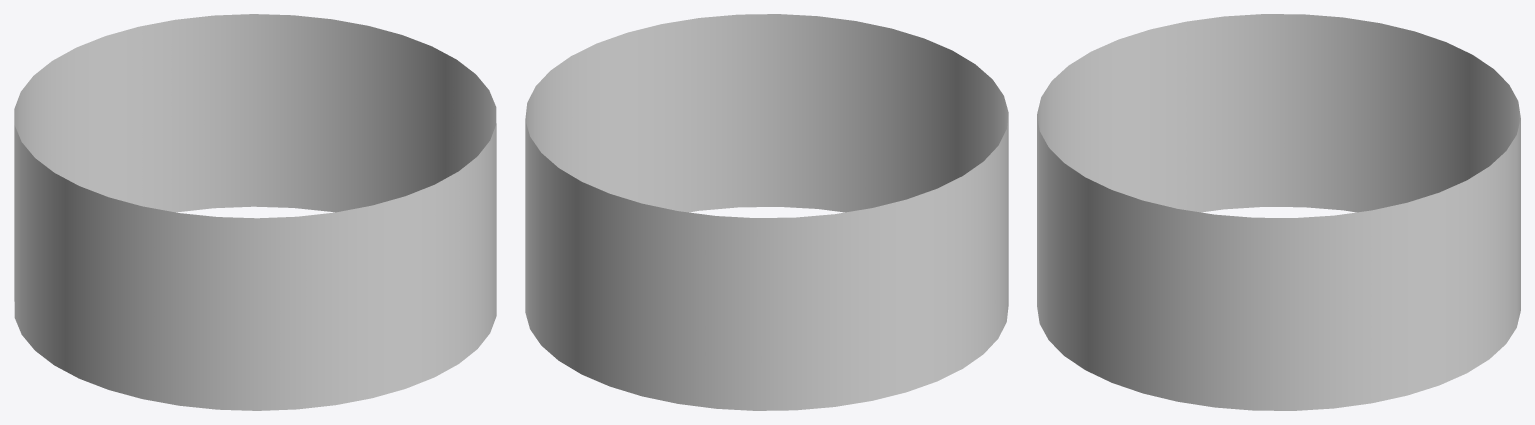
Rendered from Particle_Mesh_Center_Table.fbx.
The picture shows the model from 3 angles, left to right: view 1: azimuth 30°, elevation 25°; view 2: azimuth 150°, elevation 25°; view 3: azimuth 270°, elevation 25°; orthographic projection.
Visible parts, largest first — view 1: Particle_Mesh_Center_Table; view 2: Particle_Mesh_Center_Table; view 3: Particle_Mesh_Center_Table.
Part boxes in pixels (x1,y1,x2,y2): Particle_Mesh_Center_Table: (14, 14, 496, 410); Particle_Mesh_Center_Table: (525, 14, 1008, 410); Particle_Mesh_Center_Table: (1037, 14, 1520, 410).
Bounding box in the file's own units: 376 × 166 × 377.
